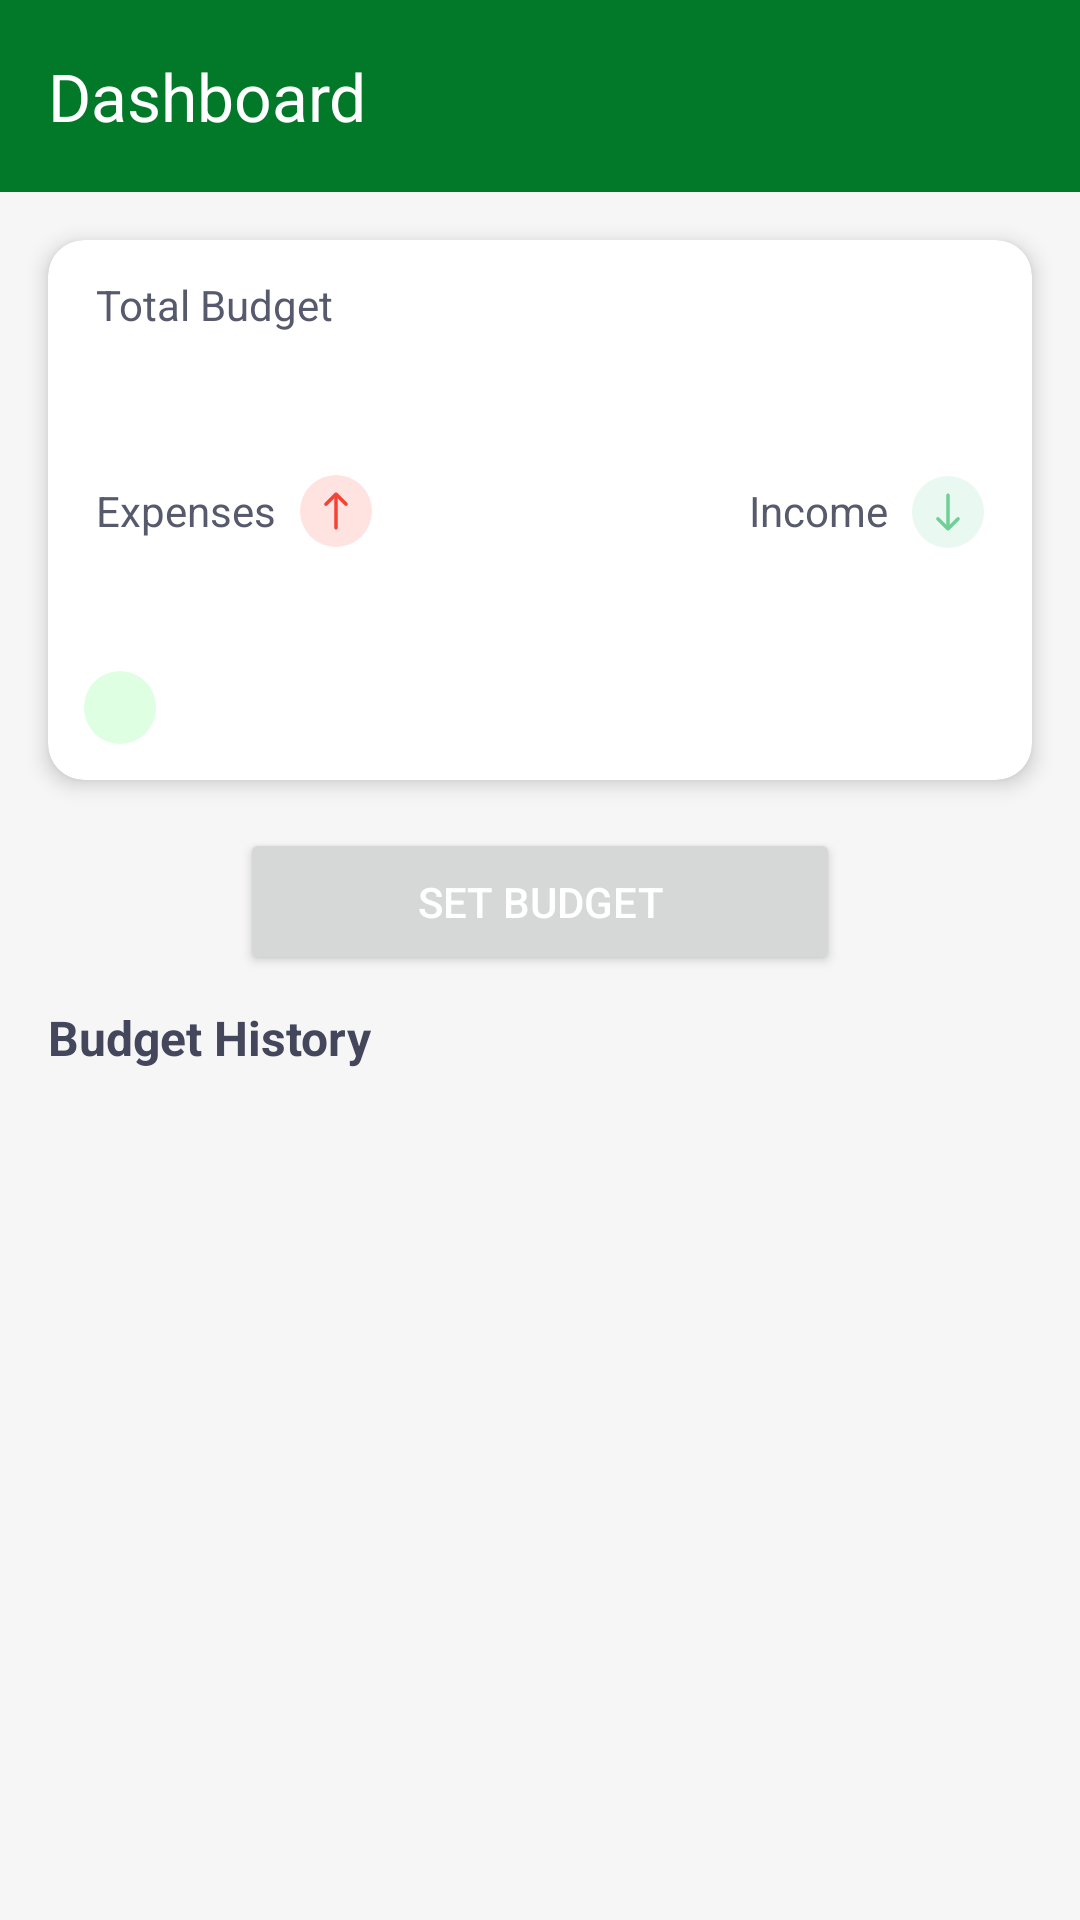

Where icons sit on this 1080 × 1920 app screen, as (x1=x1, y1=y1, x2=x2, y2=y2):
arrow down: (x1=912, y1=476, x2=984, y2=548)
arrow up: (x1=300, y1=475, x2=372, y2=547)
